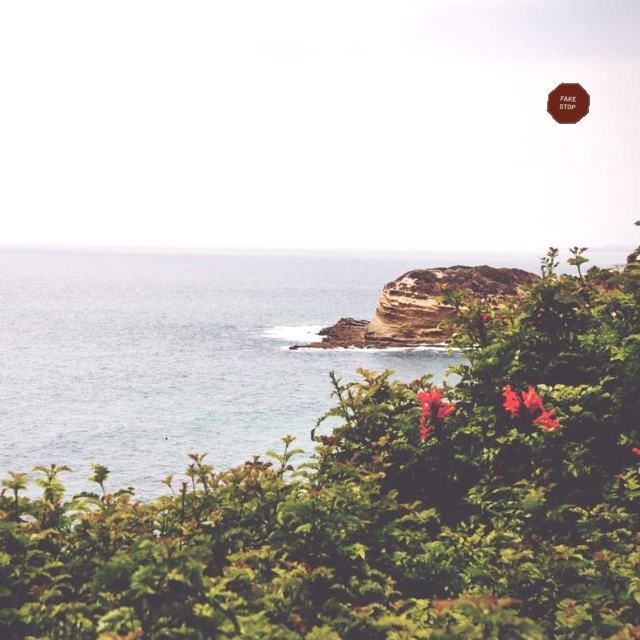FAKE_STOP: (546, 82, 590, 124)
